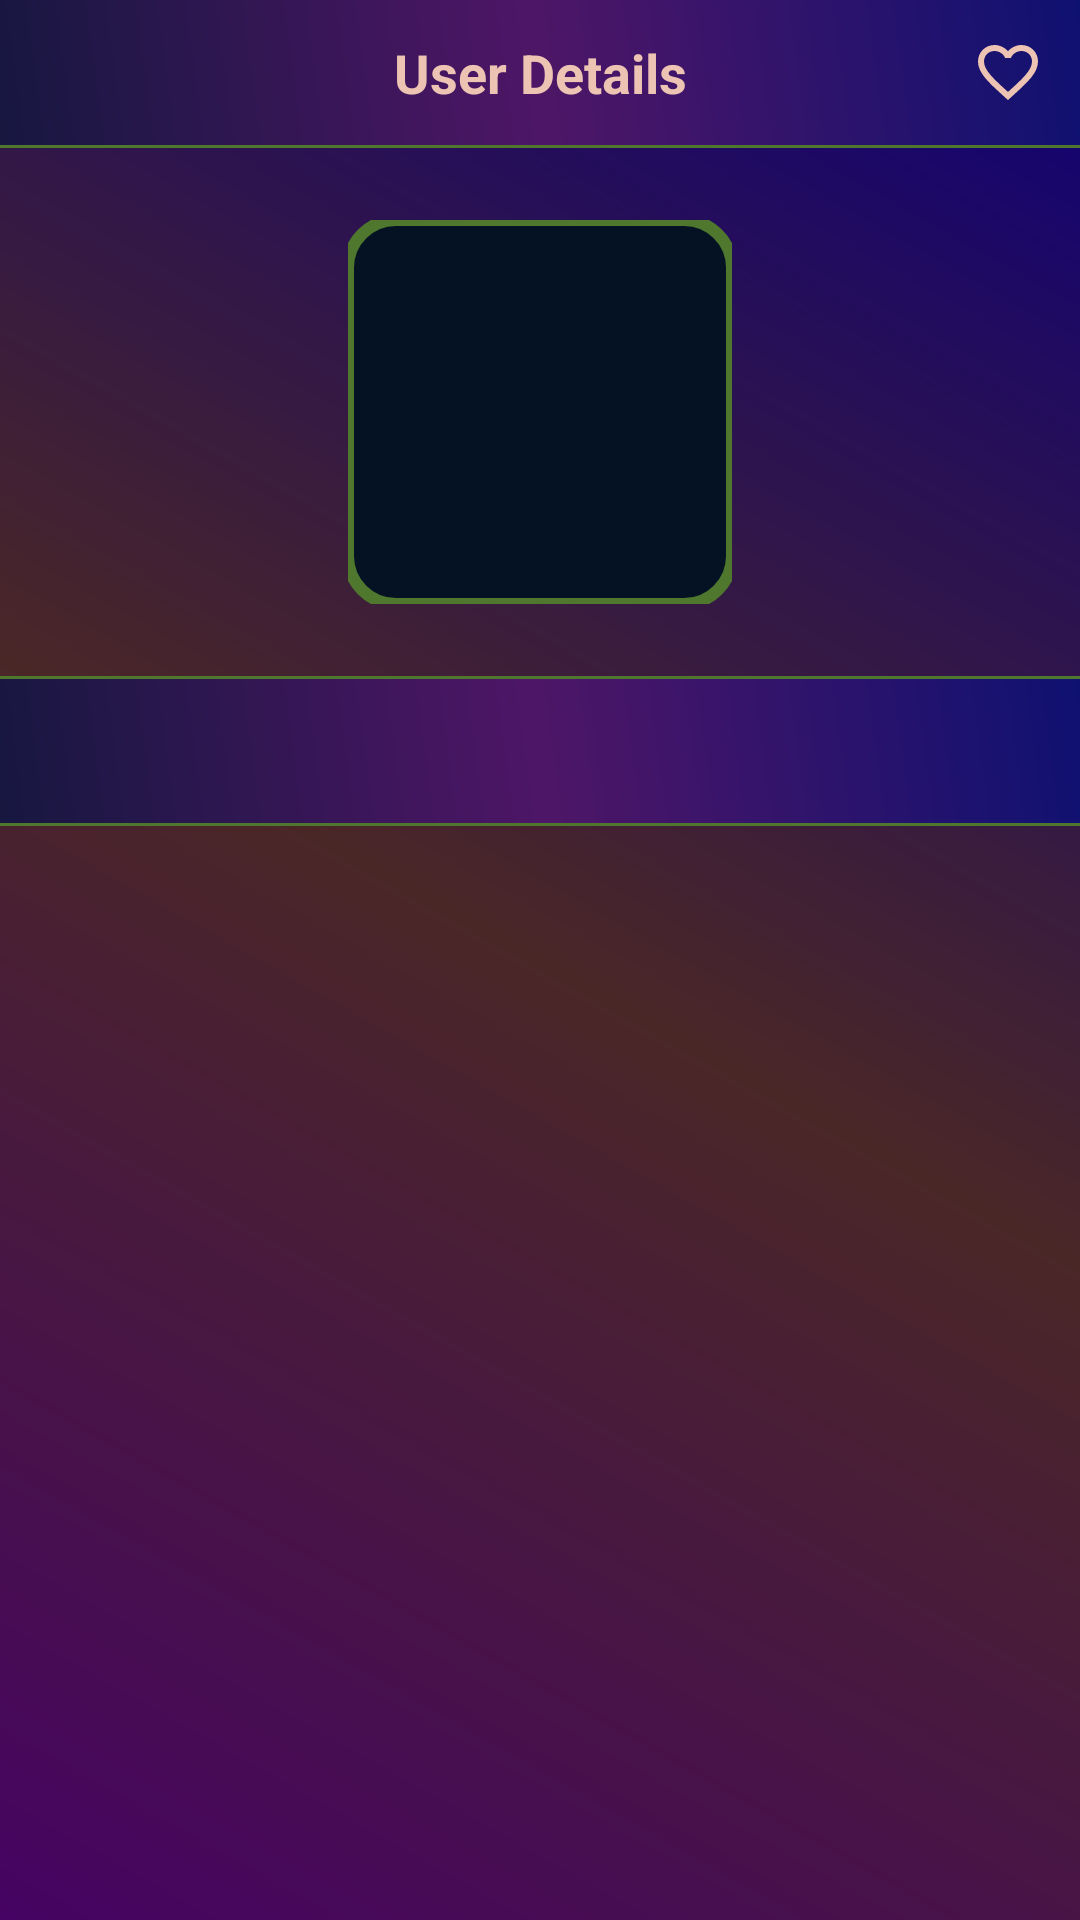

Named icons in this screenshot (1080px x 1920px) and their centers, (x=x, y=y):
like: (x=1008, y=72)
